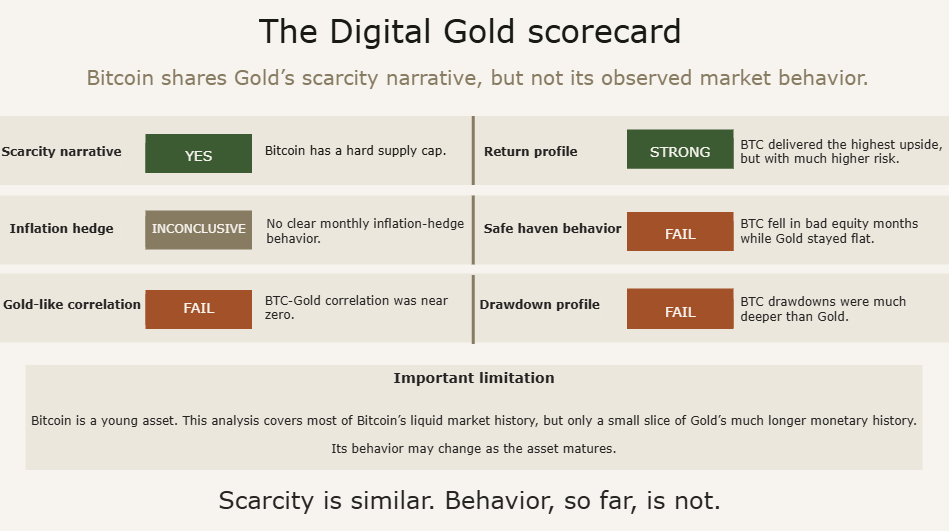

What the dashboard file says about the page in this screenshot:
{"tool":"powerbi","page":{"name":"Scorecard","canvas":[1280,720],"ordinal":3},"visuals":[{"type":"textbox","box":[347,14.7,586,72],"z":0},{"type":"textbox","box":[117,86.7,1062,56],"z":1000},{"type":"shape","box":[2,160,1278,92],"z":2000},{"type":"shape","box":[202,184,142,52],"z":3000},{"type":"textbox","box":[202,196,142,40],"z":4000},{"type":"shape","box":[844,178,142,52],"z":5000},{"type":"textbox","box":[844,190,142,40],"z":6000},{"type":"shape","box":[0,266,1278,92],"z":7000},{"type":"shape","box":[202,286,142,52],"z":8000},{"type":"textbox","box":[202,294,142,40],"z":9000},{"type":"shape","box":[0,370,1278,92],"z":10000},{"type":"shape","box":[844,390,142,52],"z":11000},{"type":"textbox","box":[844,404,142,40],"z":12000},{"type":"textbox","box":[2,192,176,40],"z":13000},{"type":"textbox","box":[648,192,176,40],"z":14000},{"type":"textbox","box":[2,294,176,40],"z":15000},{"type":"textbox","box":[648,294,202,40],"z":16000},{"type":"textbox","box":[2,396,204,40],"z":17000},{"type":"textbox","box":[642,396,176,40],"z":18000},{"type":"textbox","box":[990,182,290,50],"z":19000},{"type":"textbox","box":[356,190,256,34],"z":20000},{"type":"textbox","box":[358,288,278,50],"z":21000},{"type":"textbox","box":[990,288,266,50],"z":22000},{"type":"textbox","box":[356,390.7,292,50],"z":23000},{"type":"textbox","box":[990,392,290,50],"z":24000},{"type":"textbox","box":[42,492,1196,140],"z":25000},{"type":"textbox","box":[294,646,692,54],"z":26000},{"type":"shape","box":[202,392,142,52],"z":27000},{"type":"textbox","box":[202,398,142,40],"z":28000},{"type":"shape","box":[630,160,18,92],"z":29000},{"type":"shape","box":[630,266,18,92],"z":30000},{"type":"shape","box":[630,372,18,92],"z":31000},{"type":"shape","box":[844,288,142,52],"z":32000},{"type":"textbox","box":[844,300,142,40],"z":33000}]}

Visuals, with their boxes in screenshot pixels (x1, y1, x2, y2), scaled from the page's 1280x720 canvas onto the 949x531 screenshot:
textbox: crop(257, 11, 692, 64)
textbox: crop(87, 64, 874, 105)
shape: crop(1, 118, 948, 186)
shape: crop(150, 136, 255, 174)
textbox: crop(150, 145, 255, 174)
shape: crop(626, 131, 731, 170)
textbox: crop(626, 140, 731, 170)
shape: crop(0, 196, 948, 264)
shape: crop(150, 211, 255, 249)
textbox: crop(150, 217, 255, 246)
shape: crop(0, 273, 948, 341)
shape: crop(626, 288, 731, 326)
textbox: crop(626, 298, 731, 327)
textbox: crop(1, 142, 132, 171)
textbox: crop(480, 142, 611, 171)
textbox: crop(1, 217, 132, 246)
textbox: crop(480, 217, 630, 246)
textbox: crop(1, 292, 153, 322)
textbox: crop(476, 292, 606, 322)
textbox: crop(734, 134, 948, 171)
textbox: crop(264, 140, 454, 165)
textbox: crop(265, 212, 472, 249)
textbox: crop(734, 212, 931, 249)
textbox: crop(264, 288, 480, 325)
textbox: crop(734, 289, 948, 326)
textbox: crop(31, 363, 918, 466)
textbox: crop(218, 476, 731, 516)
shape: crop(150, 289, 255, 327)
textbox: crop(150, 294, 255, 323)
shape: crop(467, 118, 480, 186)
shape: crop(467, 196, 480, 264)
shape: crop(467, 274, 480, 342)
shape: crop(626, 212, 731, 251)
textbox: crop(626, 221, 731, 251)
